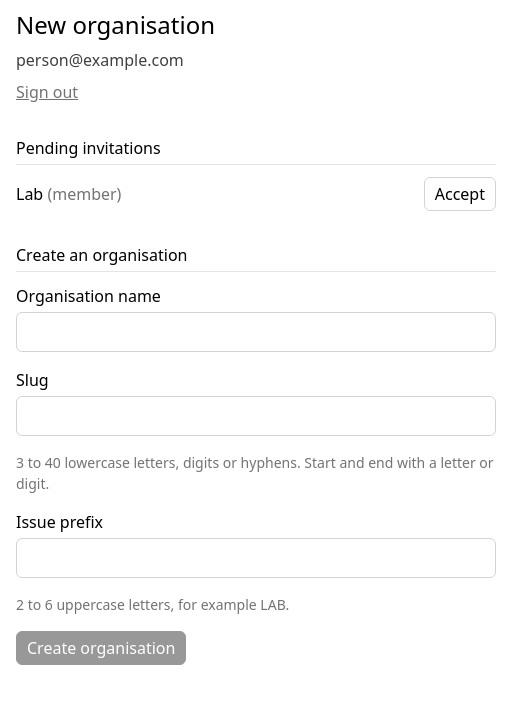
announces a pending invitation acceptance outside the public layout
This screenshot has width=513, height=706.
Click the button with aria-label "Accept Lab invitation". click: (460, 194)
box: [424, 177, 496, 211]
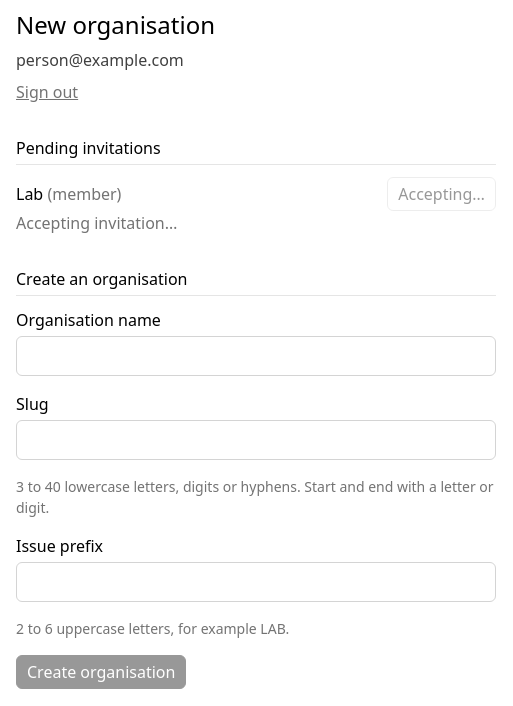
Expected: the button with aria-label "Accepting Lab invitation…" is disabled, [387, 177, 496, 211]
Expected: the message reads "Accepting invitation…", [16, 212, 177, 234]
